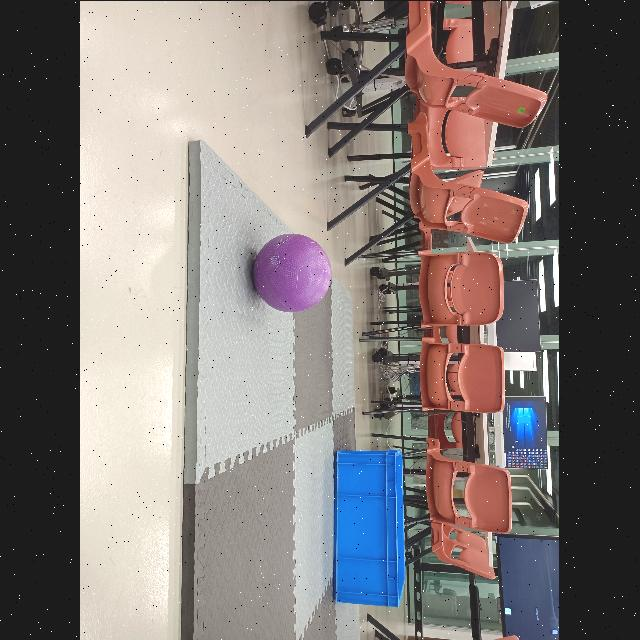P: (254, 232, 332, 312)
